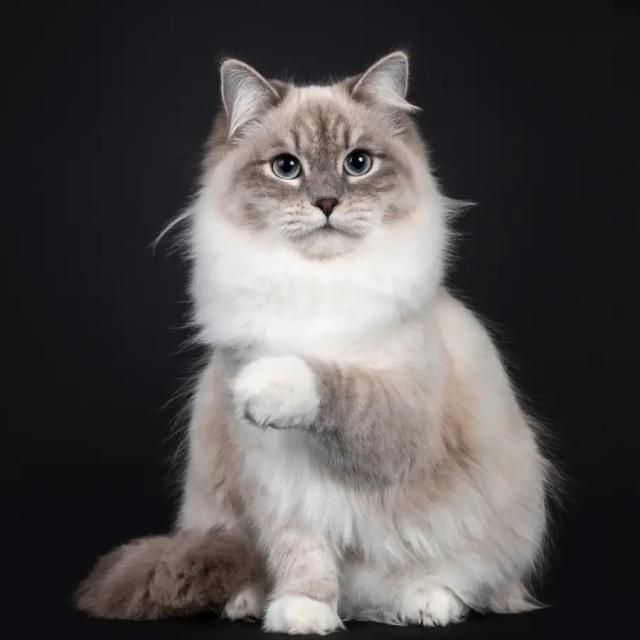Neva Masquerade: (65, 48, 559, 639)
